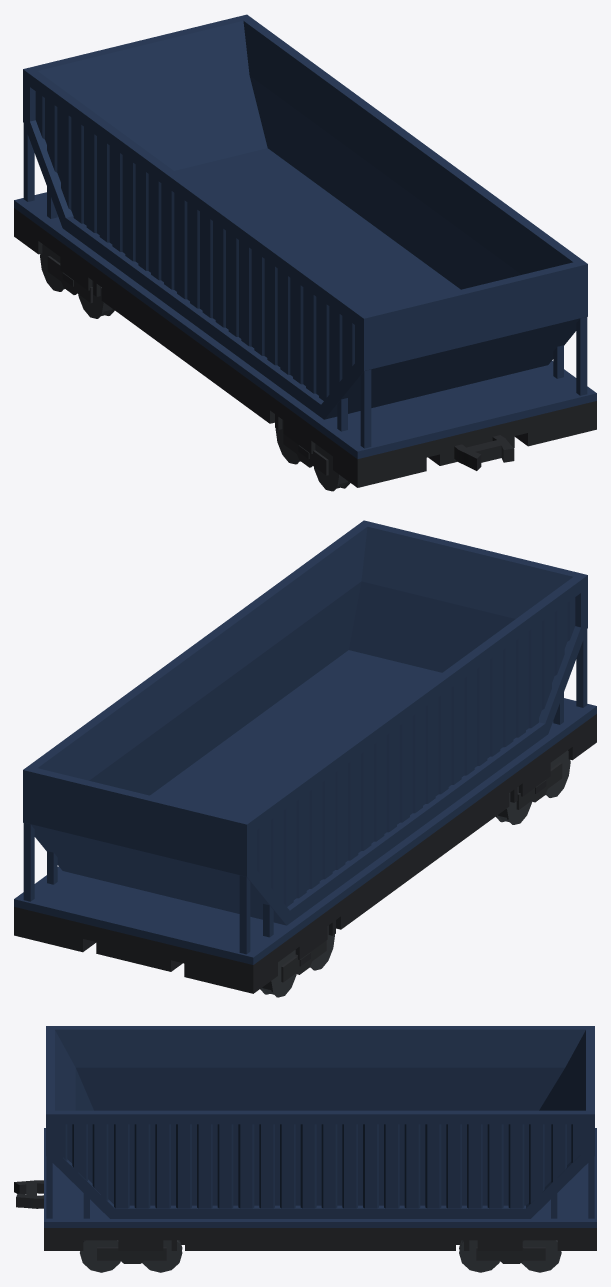
Rendered from Wagon_5.fbx.
3 renders of one model, top to bottom at view 1: azimuth 30°, elevation 25°; view 2: azimuth 150°, elevation 25°; view 3: azimuth 270°, elevation 25°, orthographic. The views are drawn at different scales.
Parts seen in each view (by area): view 1: Wagon_5; view 2: Wagon_5; view 3: Wagon_5.
Part boxes in pixels (x1,y1,x2,y2): Wagon_5: (14, 14, 596, 491); Wagon_5: (14, 520, 596, 997); Wagon_5: (14, 1026, 596, 1272).
Size of the model in its own units: 228 by 178 by 598.
